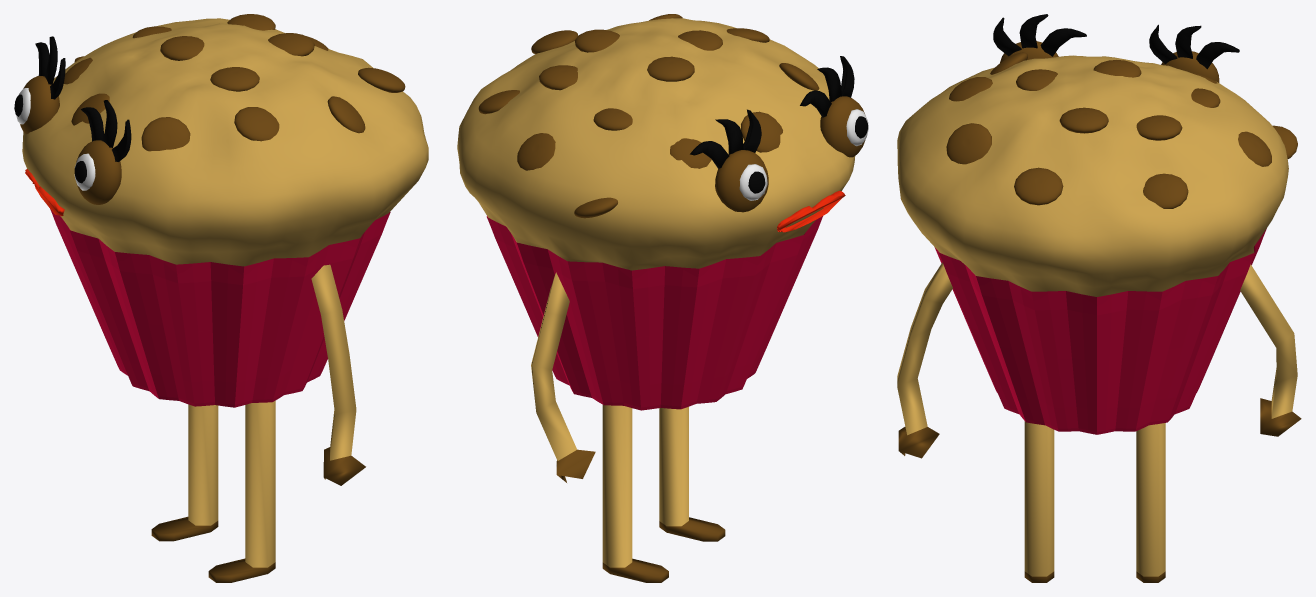
The model's file is CupcakePlayer.fbx.
3 renders of one model, left to right at view 1: azimuth 30°, elevation 25°; view 2: azimuth 150°, elevation 25°; view 3: azimuth 270°, elevation 25°, orthographic. The views are drawn at different scales.
Visible parts, largest first — view 1: Cupcake, RightFoot, RightArm, LeftFoot; view 2: Cupcake, LeftFoot, LeftArm, RightFoot; view 3: Cupcake, RightFoot, LeftFoot, RightArm, LeftArm.
Part boxes in pixels (x1,y1,x2,y2): Cupcake: (14,14,428,407); RightFoot: (208,400,275,582); RightArm: (311,264,365,485); LeftFoot: (151,404,218,541); Cupcake: (457,14,868,410); LeftFoot: (602,405,668,582); LeftArm: (531,272,595,482); RightFoot: (659,406,725,541); Cupcake: (897,14,1297,434); RightFoot: (1024,421,1054,582); LeftFoot: (1136,423,1165,582); RightArm: (897,262,952,458); LeftArm: (1240,264,1301,436).
Size of the model in its own units: 373 by 509 by 377.
